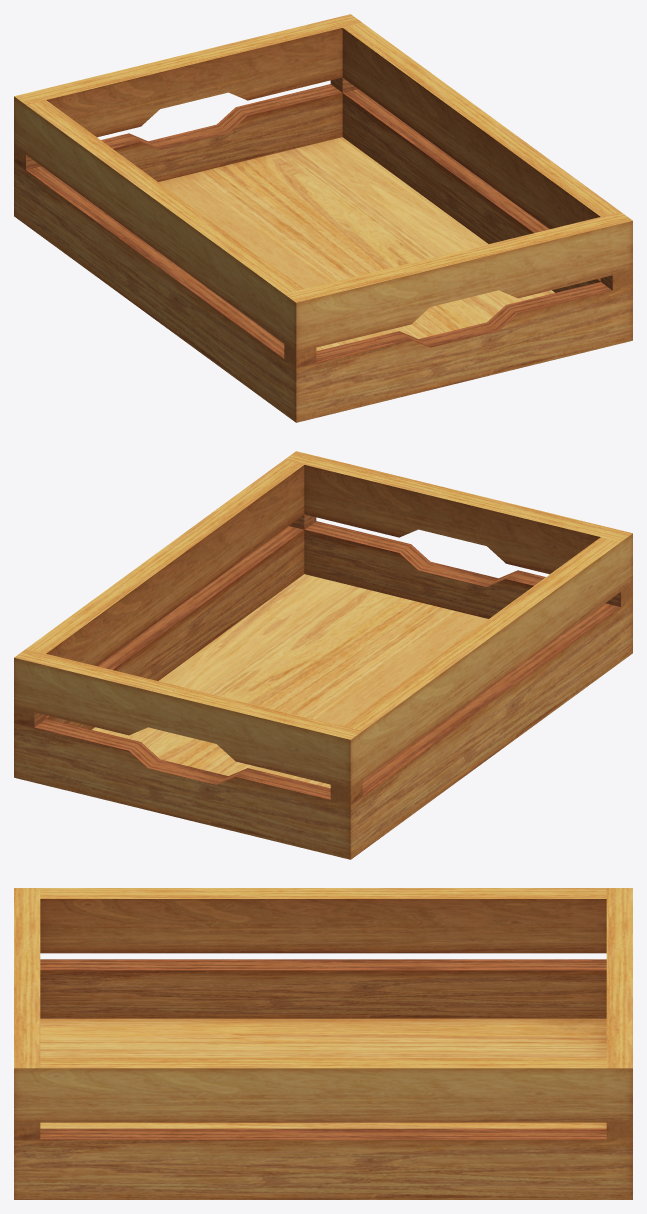
Rendered from WoodCrate_Large.fbx.
3 renders of one model, top to bottom at view 1: azimuth 30°, elevation 25°; view 2: azimuth 150°, elevation 25°; view 3: azimuth 270°, elevation 25°, orthographic. The views are drawn at different scales.
Parts seen in each view (by area): view 1: WoodCrate_Large; view 2: WoodCrate_Large; view 3: WoodCrate_Large.
Boxes of the visible parts, box(x1,y1,x2,y2) form: WoodCrate_Large: box(14, 14, 632, 422); WoodCrate_Large: box(14, 451, 632, 859); WoodCrate_Large: box(14, 888, 632, 1199).
Size of the model in its own units: 122 by 41.37 by 176.
1 material, 1 textured.
